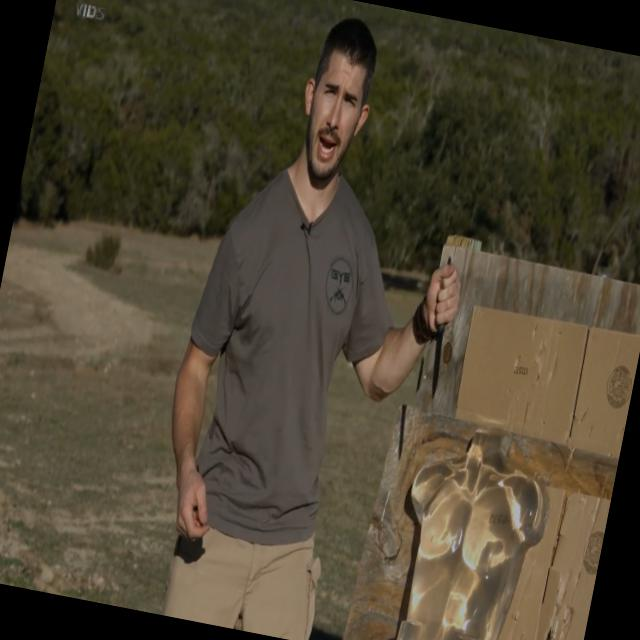knife: (408, 254, 471, 404)
